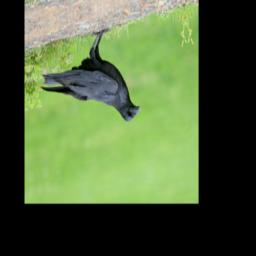Crow: (36, 21, 142, 144)
